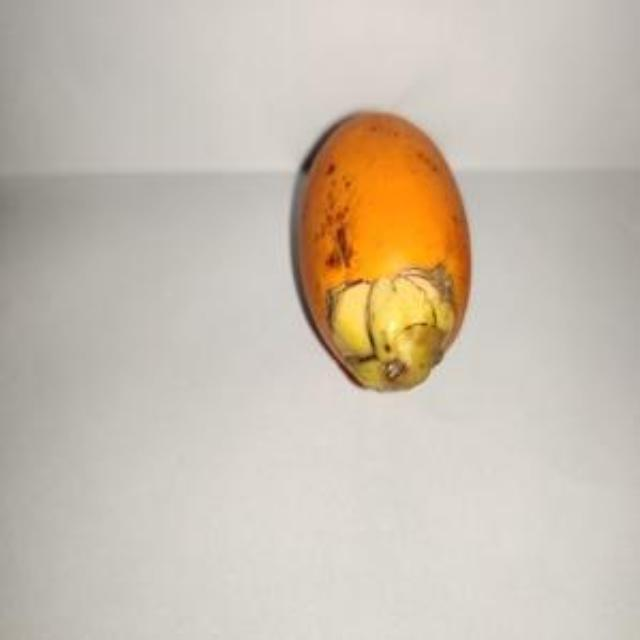good: (291, 113, 473, 394)
